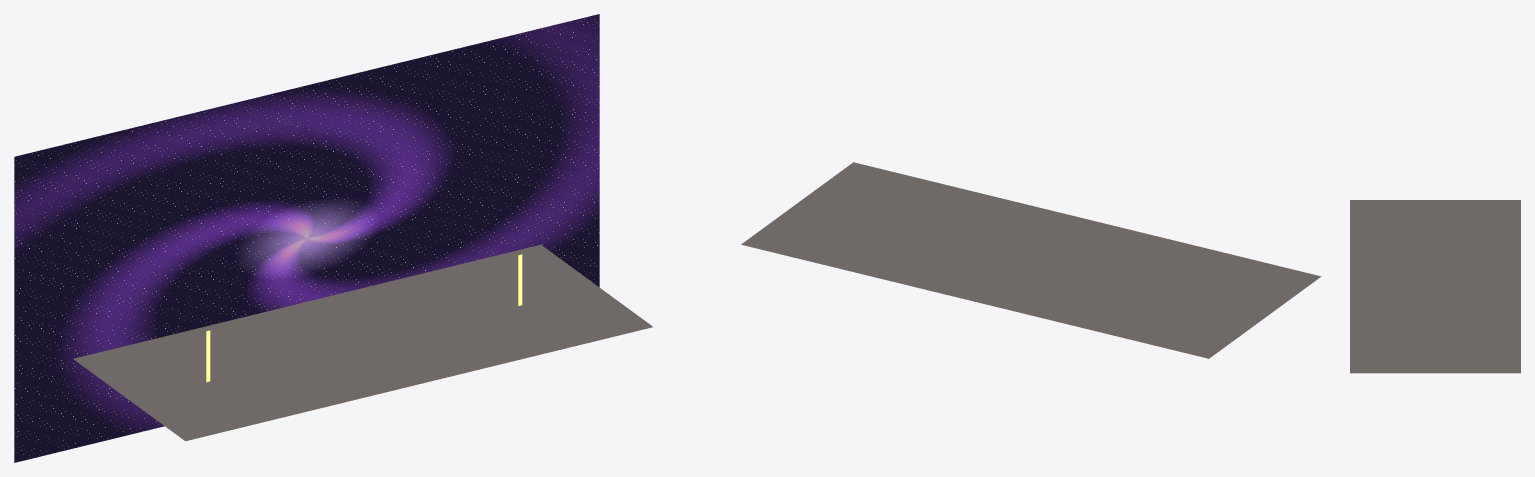
The model's file is stage_antariksha_space.glb.
The picture shows the model from 3 angles, left to right: view 1: azimuth 30°, elevation 25°; view 2: azimuth 150°, elevation 25°; view 3: azimuth 270°, elevation 25°; orthographic projection. The views are drawn at different scales.
Parts seen in each view (by area): view 1: FOF_StageBackdrop, FOF_FightingFloor; view 2: FOF_FightingFloor; view 3: FOF_FightingFloor.
Boxes of the visible parts, <box> form: FOF_StageBackdrop: <box>14,14,599,462</box>; FOF_FightingFloor: <box>73,244,652,441</box>; FOF_FightingFloor: <box>741,162,1321,358</box>; FOF_FightingFloor: <box>1350,200,1520,373</box>.
Bounding box in the file's own units: 60 × 30 × 20.
Materials: 3 (1 with a texture image).
